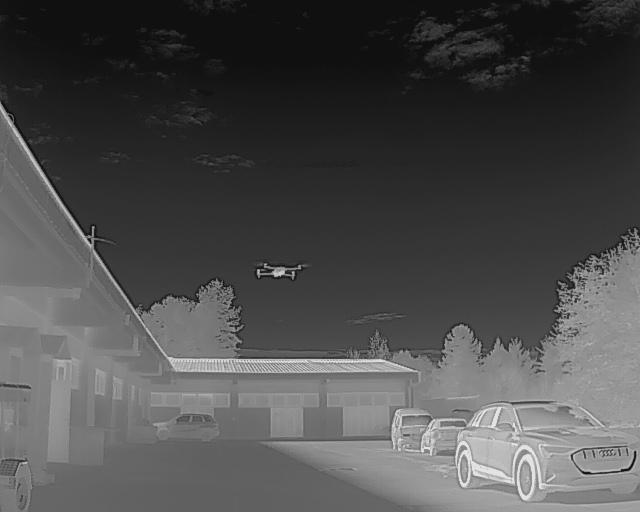drone: (244, 253, 316, 291)
